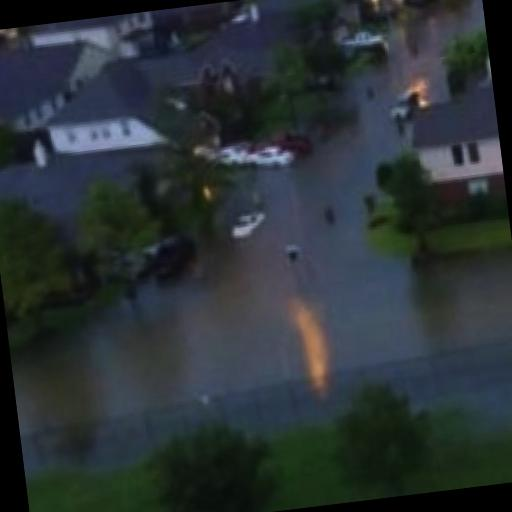flood: (11, 0, 512, 436)
house: (38, 56, 195, 166), (0, 25, 120, 138), (408, 92, 506, 206)
